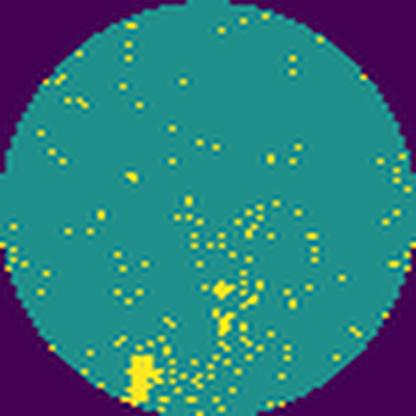Loc: (129, 350, 169, 404)
